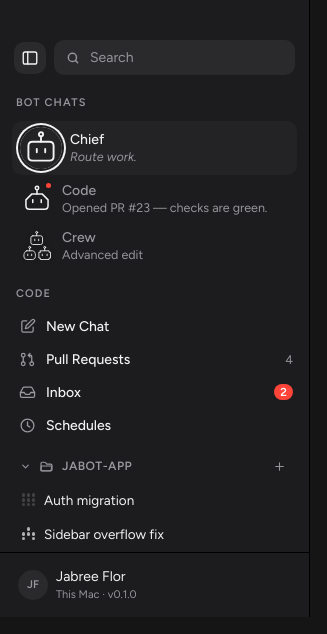
Test case: Sidebar › says so when a search matches nothing
Step 1. Type "kubernetes" into the search field named "Search threads" → (186, 58), box left=88, top=48, right=283, bottom=67
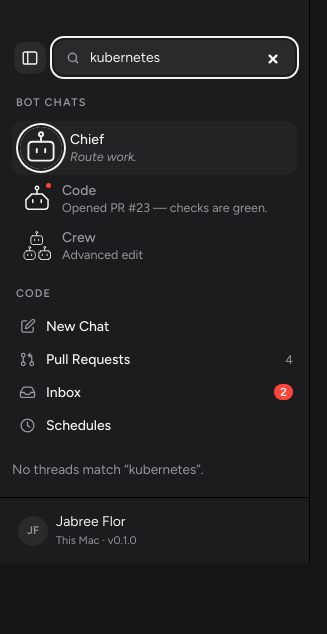
Result: the text "No threads match “kubernetes”." is shown at left=12, top=461, right=204, bottom=477
